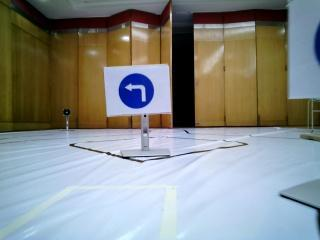left: (284, 0, 320, 96), (100, 69, 173, 115)
